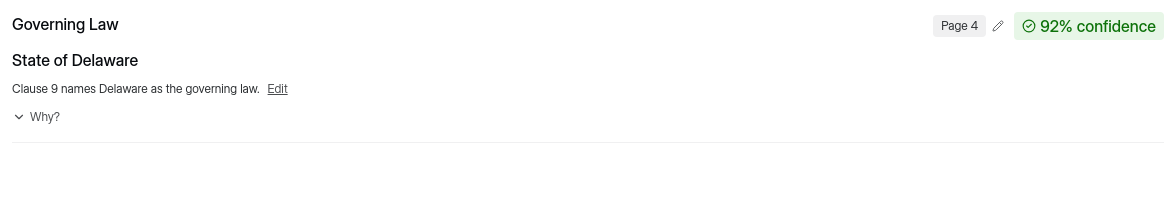
Test case: WhySection (spec 07 v1.1 §C) › keeps the existing no-sentence copy in the Source block
Click the button "Why?": (36, 117) [12,108,60,126]
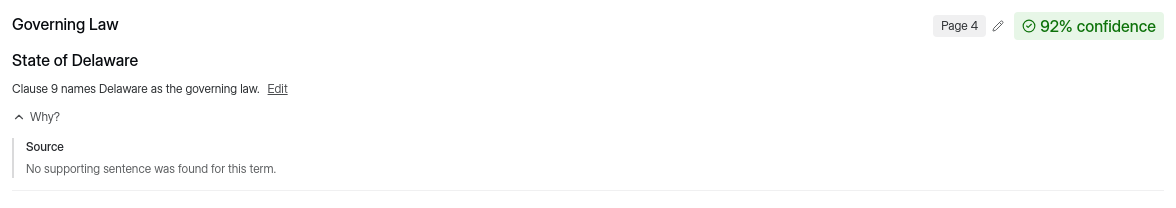
Expected: the text "No supporting sentence was found for this term." is shown, [26,161,276,176]
